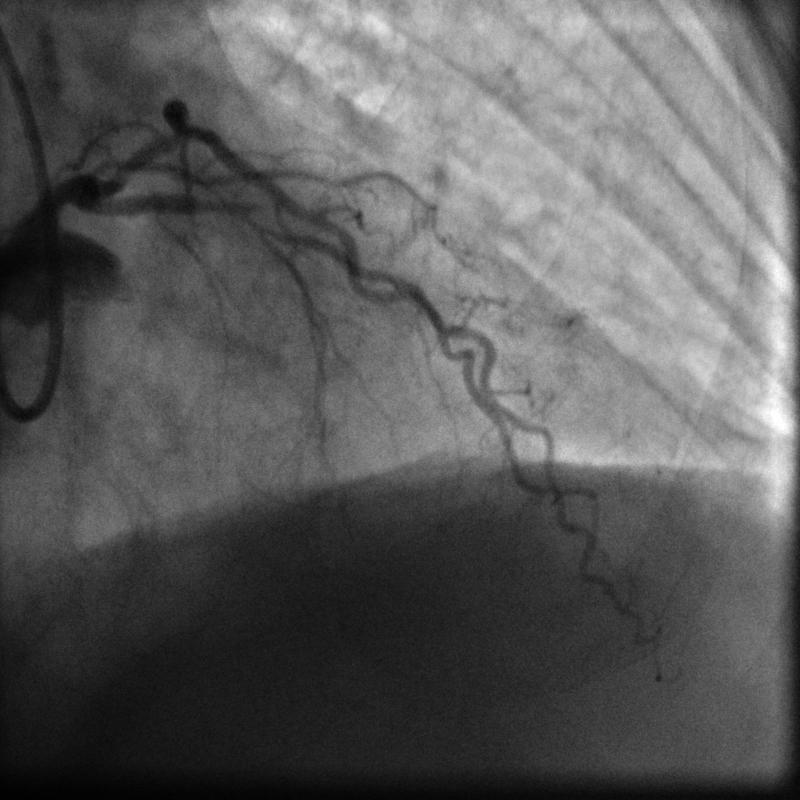Stenosis: (226, 194, 282, 250)
